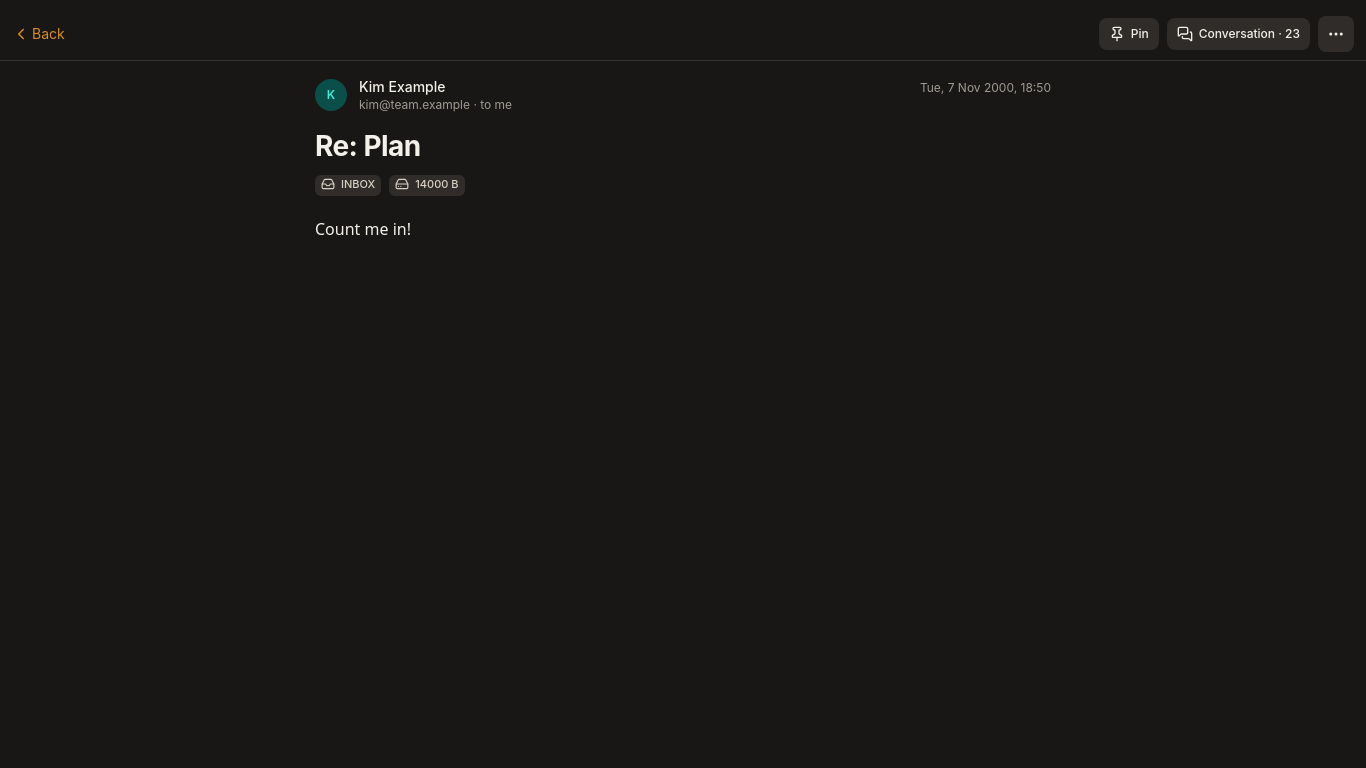
Test case: without the app's handlers the item is not shown
Expected: the text "Count me in!" is shown, [315,218,411,240]
Step 1. Click the button named "More" → (1336, 34), box [1318,16,1354,52]
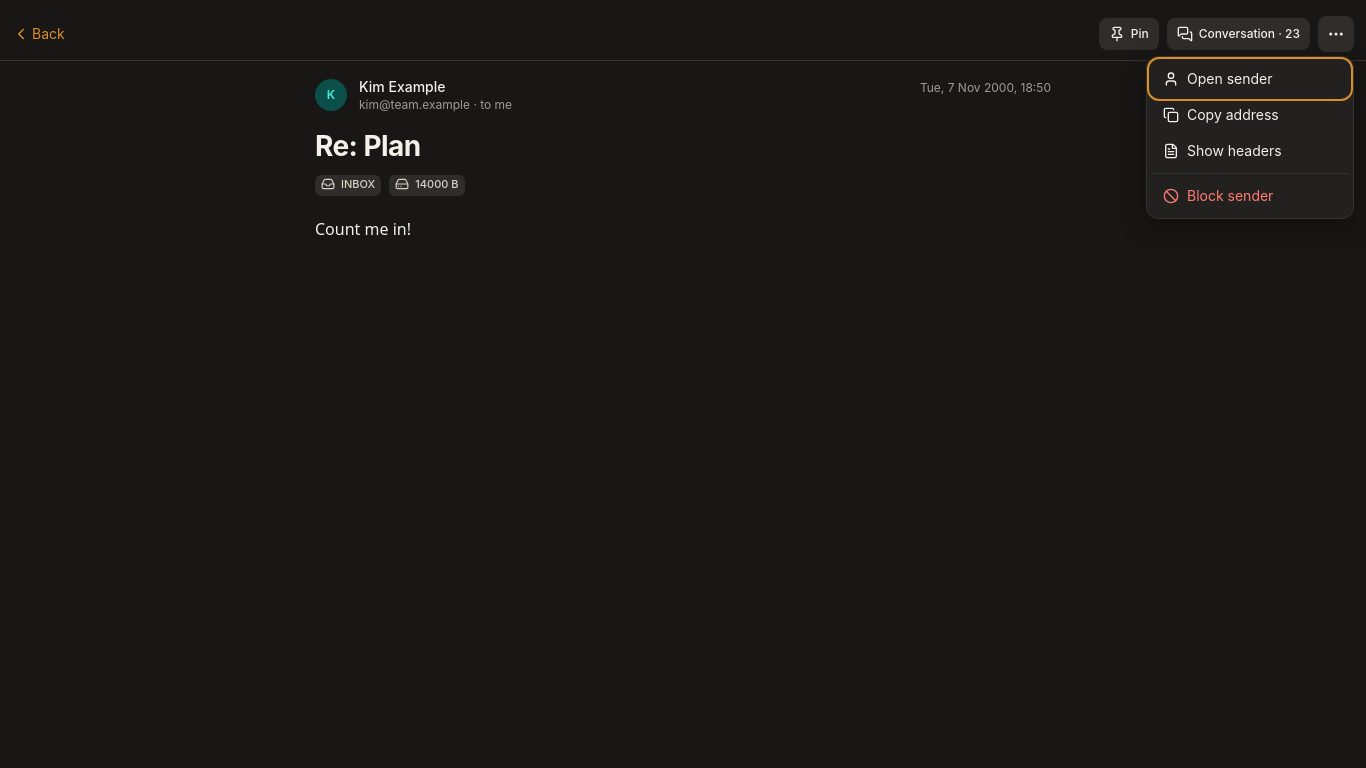
Result: the menu item "Block sender" is shown at [1151,178,1349,214]
